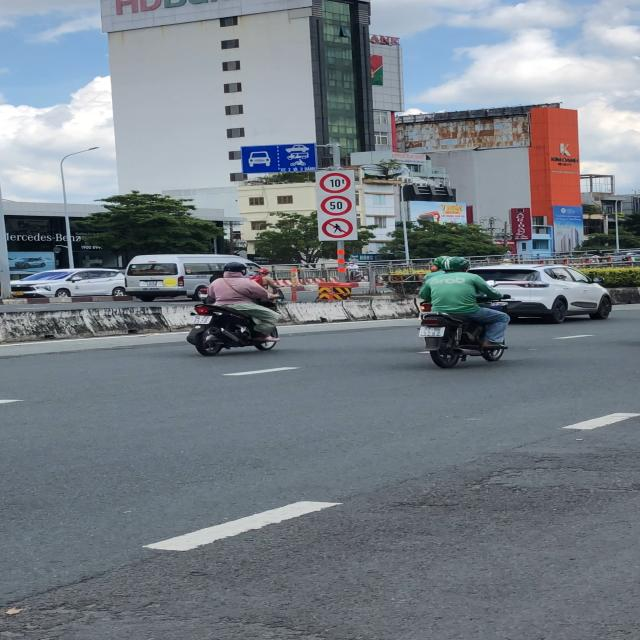Bien bao cam nguoi di bo: (321, 216, 358, 239)
Bien bao toc do toi da cho phep: (317, 195, 353, 216)
